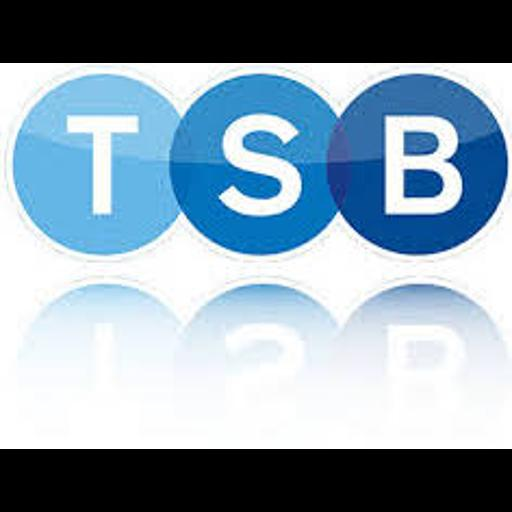TSB Bank Plc: (0, 63, 512, 449)
